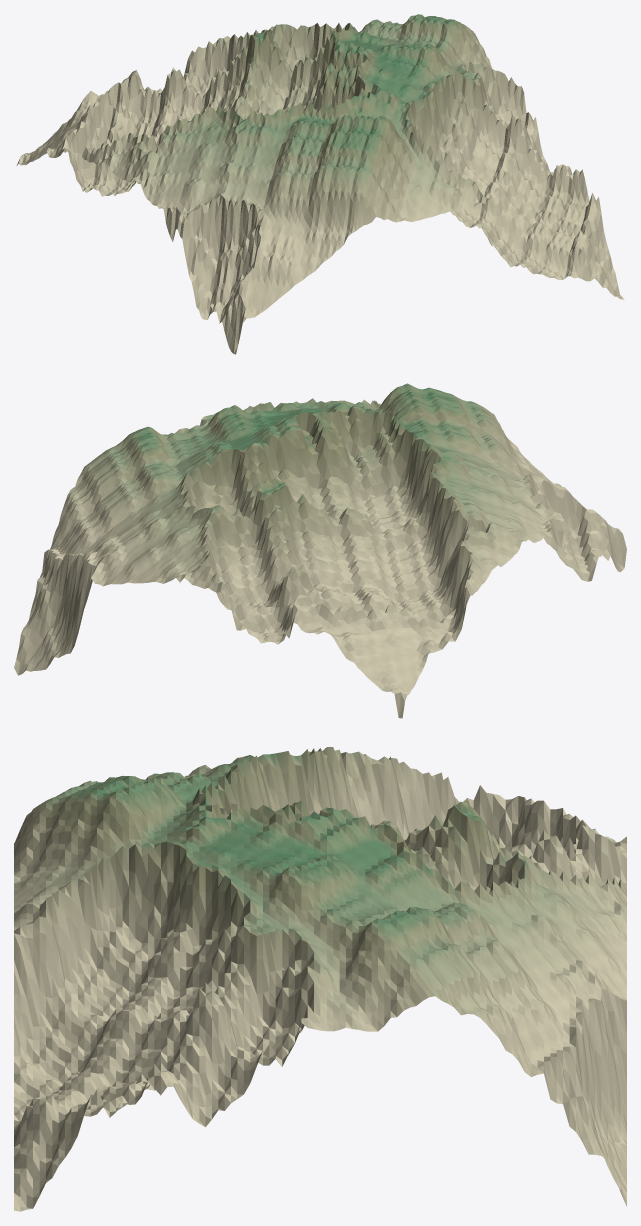
Rendered from island_lod0.glb.
3 renders of one model, top to bottom at view 1: azimuth 30°, elevation 25°; view 2: azimuth 150°, elevation 25°; view 3: azimuth 270°, elevation 25°, orthographic. The views are drawn at different scales.
Parts seen in each view (by area): view 1: world; view 2: world; view 3: world.
Boxes of the visible parts, x1=… form: world: x1=17, y1=14, x2=624, y2=354; world: x1=14, y1=383, x2=626, y2=718; world: x1=14, y1=747, x2=626, y2=1211.
Size of the model in its own units: 2 by 1.04 by 2.
